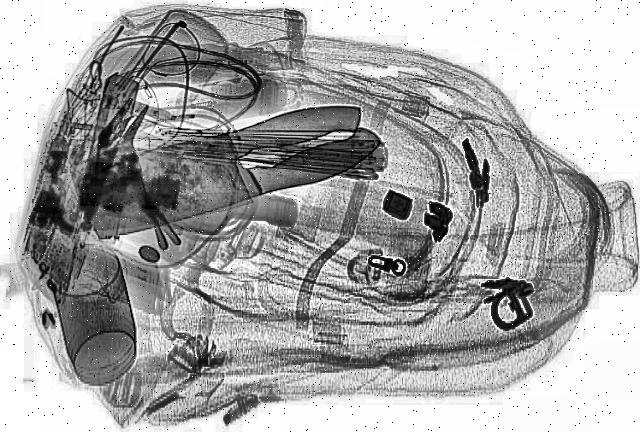Knife: (49, 90, 397, 244), (59, 96, 401, 244)
